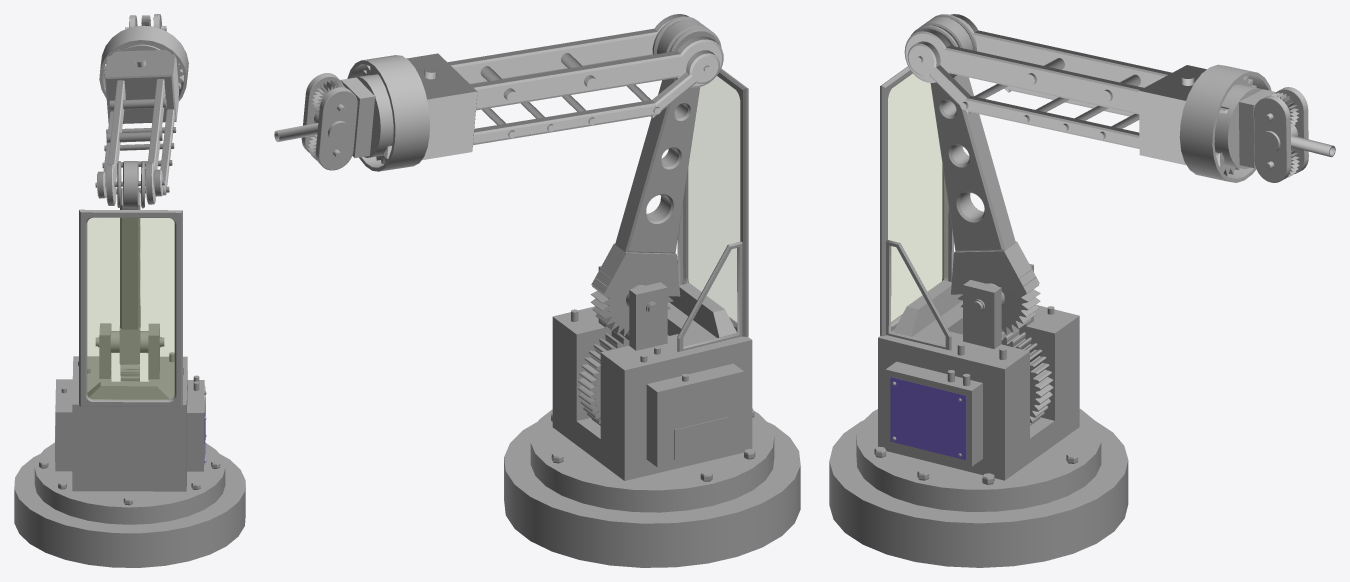
File: ControlRobot_v5.fbx
The picture shows the model from 3 angles, left to right: view 1: azimuth 30°, elevation 25°; view 2: azimuth 150°, elevation 25°; view 3: azimuth 270°, elevation 25°; orthographic projection. The views are drawn at different scales.
Visible parts, largest first — view 1: Base_Mechanics, BackGlass, EntireRobot, FirstTwoArms_UpperArm, BottomDisc, LowerArm, Head, LowerArmGear, OBJ:Circle03, polySurface49; view 2: Base_Mechanics, FirstTwoArms_UpperArm, EntireRobot, BottomDisc, Head, LowerArm, BackGlass, LowerGear, LowerArmGear, OBJ:Circle03; view 3: Base_Mechanics, FirstTwoArms_UpperArm, EntireRobot, Head, BottomDisc, LowerArm, BackGlass, LowerGear, LowerArmGear, OBJ:Circle03.
Part boxes in pixels (x1,y1,x2,y2): Base_Mechanics: [55, 209, 206, 491]; BackGlass: [87, 218, 174, 399]; EntireRobot: [14, 453, 245, 567]; FirstTwoArms_UpperArm: [95, 49, 178, 205]; BottomDisc: [34, 442, 225, 524]; LowerArm: [119, 190, 140, 364]; Head: [99, 14, 188, 100]; LowerArmGear: [95, 331, 164, 375]; OBJ:Circle03: [123, 161, 138, 208]; polySurface49: [103, 42, 183, 88]; Base_Mechanics: [552, 68, 752, 480]; FirstTwoArms_UpperArm: [358, 14, 723, 160]; EntireRobot: [504, 422, 800, 567]; BottomDisc: [530, 408, 774, 512]; Head: [301, 55, 429, 171]; LowerArm: [591, 78, 699, 296]; BackGlass: [687, 76, 739, 322]; LowerGear: [578, 330, 668, 425]; LowerArmGear: [590, 270, 673, 336]; OBJ:Circle03: [657, 19, 710, 53]; Base_Mechanics: [878, 66, 1079, 480]; FirstTwoArms_UpperArm: [904, 14, 1229, 166]; EntireRobot: [829, 420, 1128, 567]; Head: [1179, 64, 1308, 182]; BottomDisc: [856, 409, 1101, 511]; LowerArm: [930, 75, 1039, 294]; BackGlass: [888, 74, 943, 322]; LowerGear: [962, 329, 1053, 425]; LowerArmGear: [957, 269, 1040, 334]; OBJ:Circle03: [919, 17, 972, 75].
Bounding box in the file's own units: 1.57 × 2.26 × 2.06.
